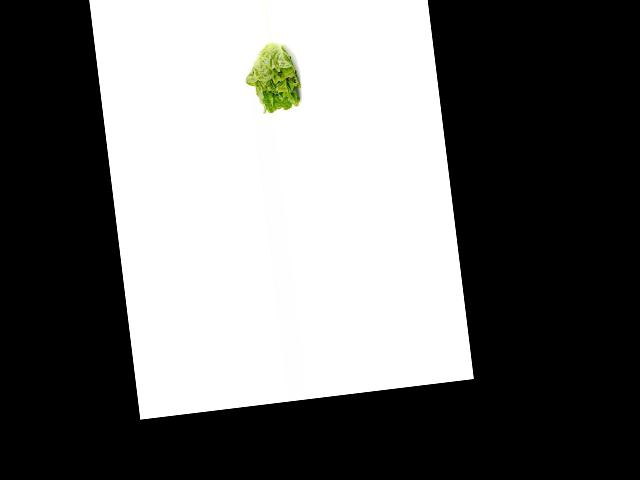lettuce: (242, 39, 307, 115)
